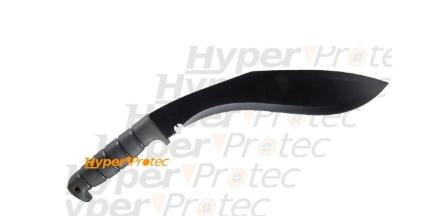MACHETTE: (65, 67, 392, 212)
